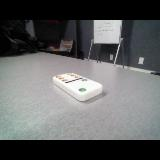domino: (53, 73, 102, 101)
